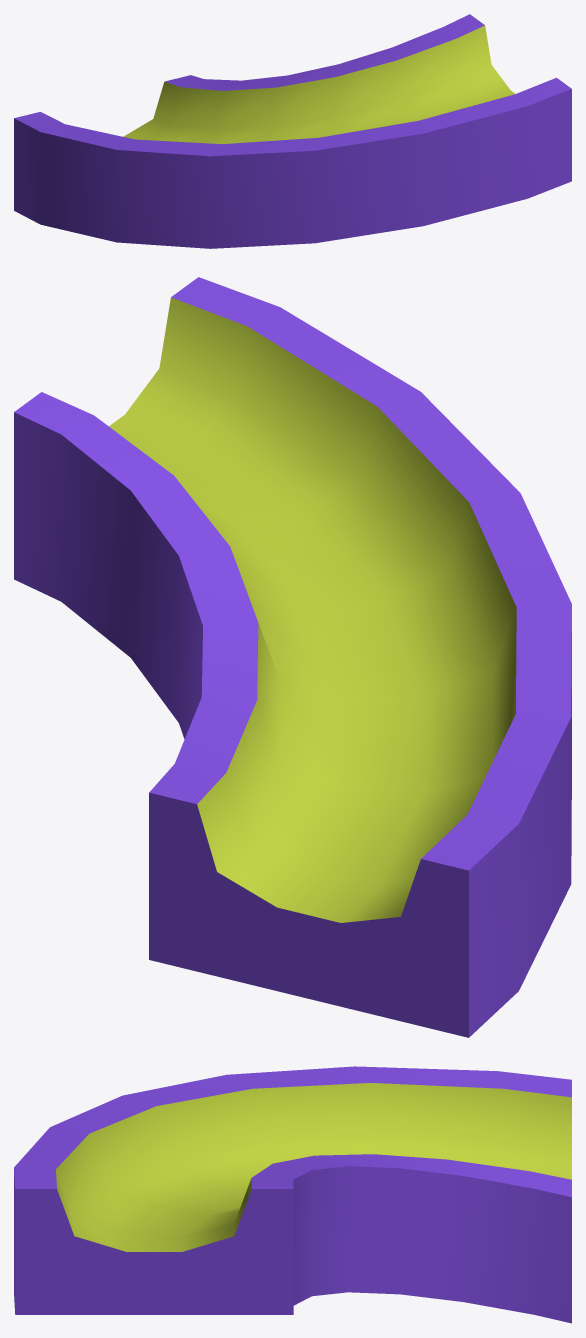
File: helix_quarter_left-col.dae
The picture shows the model from 3 angles, top to bottom: view 1: azimuth 30°, elevation 25°; view 2: azimuth 150°, elevation 25°; view 3: azimuth 270°, elevation 25°; orthographic projection. The views are drawn at different scales.
Parts seen in each view (by area): view 1: helix_quarter_left-col; view 2: helix_quarter_left-col; view 3: helix_quarter_left-col.
Part boxes in pixels (left/top/right/bottom): helix_quarter_left-col: left=14, top=14, right=571, bottom=248; helix_quarter_left-col: left=14, top=277, right=571, bottom=1037; helix_quarter_left-col: left=14, top=1066, right=571, bottom=1323.
Bounding box in the file's own units: 2 × 2 × 1.
